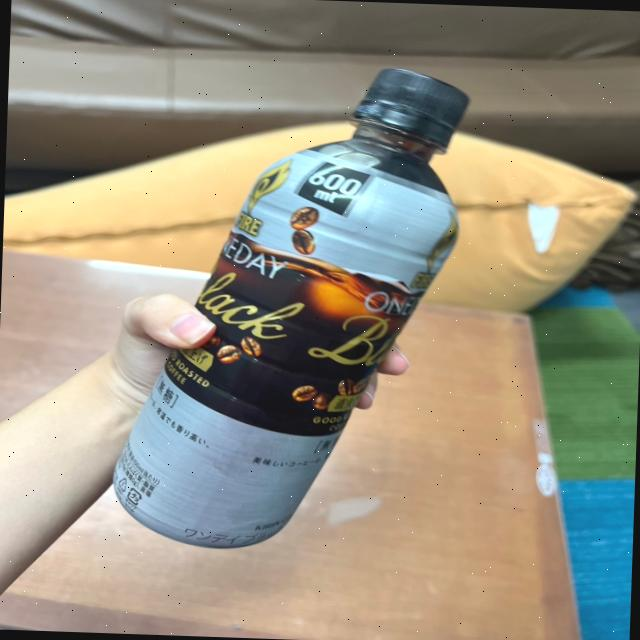coffee-black: (96, 50, 473, 559)
